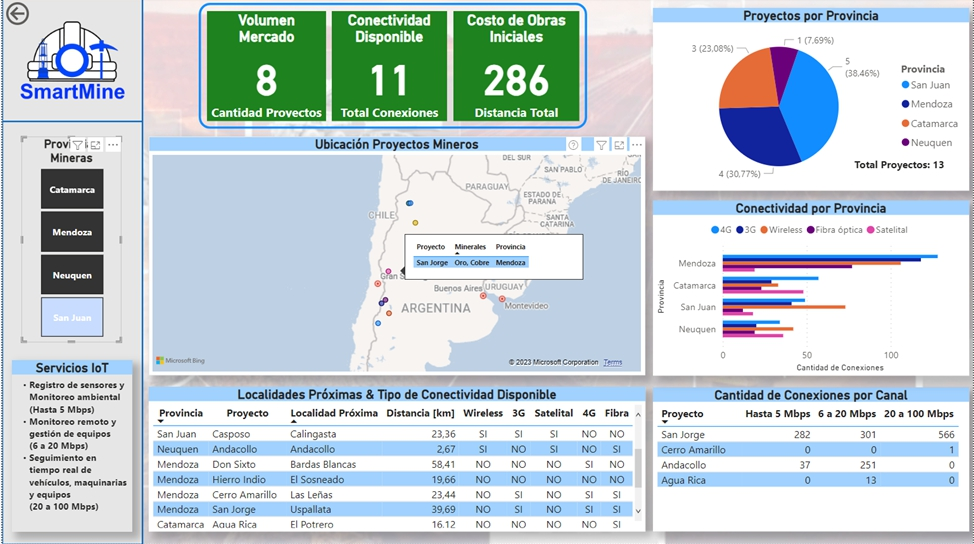

The dashboard page shown, as its layout file describes it:
{"tool":"powerbi","page":{"name":"Análisis","canvas":[1280,720],"ordinal":2},"visuals":[{"type":"shape","box":[0,0,184.6,720.2],"z":0},{"type":"shape","box":[259.3,6,512.3,166.5],"z":1000},{"type":"actionButton","box":[0,0,100,40],"z":2000},{"type":"map","title":"Ubicación Proyectos Mineros","fields":{"Y":["proy_mineros_tecno.Latitud"],"X":["proy_mineros_tecno.Longitud"],"Series":["proy_mineros_tecno.Proyecto"]},"box":[193.1,182.4,654.5,314.7],"z":3000},{"type":"slicer","title":"Provincias Mineras","fields":{"Values":["prov_mineras.Provincia"]},"box":[25.1,182.4,132.2,271.3],"z":4000},{"type":"tableEx","title":"Localidades Próximas & Tipo de Conectividad Disponible","fields":{"Values":["proy_mineros_tecno.Provincia","proy_mineros_tecno.Proyecto","proy_mineros_tecno.Local. Prox.","proy_mineros_tecno.Distancia","proy_mineros_tecno.WIRELESS","proy_mineros_tecno.3G","proy_mineros_tecno.SATELITAL","proy_mineros_tecno.4G","proy_mineros_tecno.FIBRAOPTICA"]},"box":[193.2,512.3,654.7,190.6],"z":5000},{"type":"card","title":"Volumen Mercado","fields":{"Values":["Count(proy_mineros_tecno.Proyecto)"]},"box":[270.2,16.8,157.3,144.8],"z":6000},{"type":"pieChart","title":"Proyectos por Provincia","fields":{"Category":["proy_mineros_tecno.Provincia"],"Y":["CountNonNull(proy_mineros_tecno.Proyecto)"]},"box":[858.2,12.5,417,241.3],"z":7000},{"type":"tableEx","title":"Cantidad de Conexiones por Canal","fields":{"Values":["serv_IoT_minero.Proyecto","serv_IoT_minero.Hasta 5 Mbps","serv_IoT_minero.6 a 20 Mbps","serv_IoT_minero.20 a 100 Mbps"]},"box":[858.2,512.6,417,190.2],"z":8000},{"type":"card","title":"Conectividad Disponible","fields":{"Values":["Sum(proy_mineros_tecno.Cantidad Conexiones)"]},"box":[434.3,16.8,151.6,144.8],"z":9000},{"type":"image","box":[17.3,6.9,149.2,149.2],"z":10000},{"type":"shape","box":[176,0,17.3,720.2],"z":11000},{"type":"shape","box":[0,156.1,184.6,12.1],"z":12000},{"type":"card","title":"Costo de Obras Iniciales","fields":{"Values":["Sum(proy_mineros_tecno.Distancia)"]},"box":[594.6,16.4,166,144.8],"z":13000},{"type":"clusteredBarChart","title":"Conectividad por Provincia","fields":{"Category":["Conectividad_RO.Provincia"],"Y":["Sum(Conectividad_RO.4G)","Sum(Conectividad_RO.3G)","Sum(Conectividad_RO.WIRELESS)","Sum(Conectividad_RO.FIBRAOPTICA)","Sum(Conectividad_RO.SATELITAL)"]},"box":[858.2,266.4,417,230.7],"z":13001},{"type":"textbox","title":"Servicios IoT","box":[12.5,476.9,159.3,225.9],"z":13002},{"type":"textbox","box":[1118.8,204.6,140.9,32.8],"z":13003}]}

Visuals, with their boxes on the page's 1280x720 design canvas (x1, y1, x2, y2). These are canvas units, not pixel positions in the 974x544 screenshot, which may show the page scaled, cropped or inside an application window:
shape: region(0, 0, 185, 720)
shape: region(259, 6, 772, 172)
actionButton: region(0, 0, 100, 40)
"Ubicación Proyectos Mineros" map: region(193, 182, 848, 497)
"Provincias Mineras" slicer: region(25, 182, 157, 454)
"Localidades Próximas & Tipo de Conectividad Disponible" tableEx: region(193, 512, 848, 703)
"Volumen Mercado" card: region(270, 17, 428, 162)
"Proyectos por Provincia" pieChart: region(858, 12, 1275, 254)
"Cantidad de Conexiones por Canal" tableEx: region(858, 513, 1275, 703)
"Conectividad Disponible" card: region(434, 17, 586, 162)
image: region(17, 7, 166, 156)
shape: region(176, 0, 193, 720)
shape: region(0, 156, 185, 168)
"Costo de Obras Iniciales" card: region(595, 16, 761, 161)
"Conectividad por Provincia" clusteredBarChart: region(858, 266, 1275, 497)
"Servicios IoT" textbox: region(12, 477, 172, 703)
textbox: region(1119, 205, 1260, 237)
